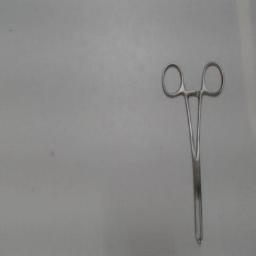Allis Tissue Forceps: (159, 58, 229, 250)
